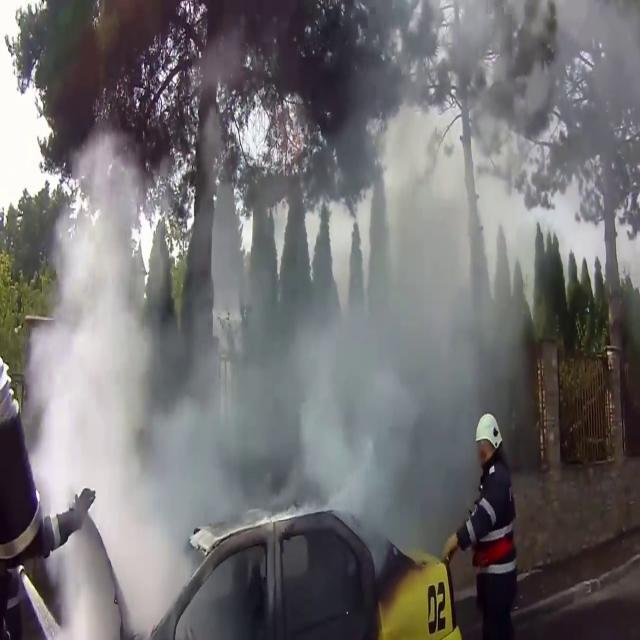Smoke: (46, 0, 640, 522)
